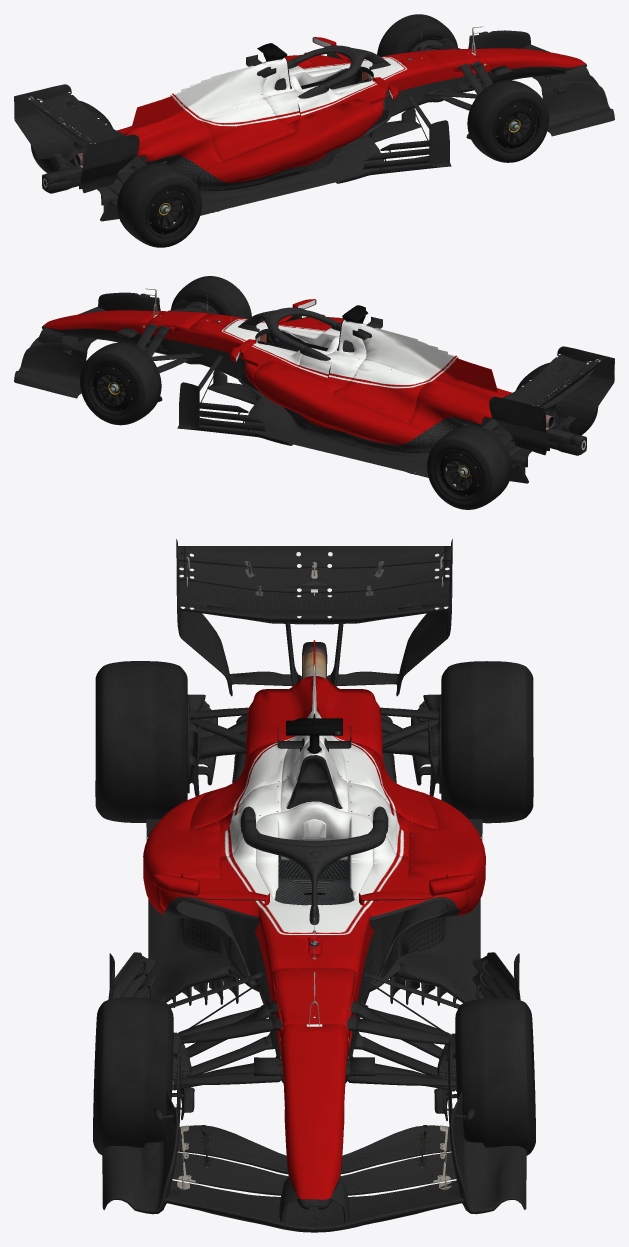
The model's file is ferrari.glb.
3 renders of one model, top to bottom at view 1: azimuth 30°, elevation 25°; view 2: azimuth 150°, elevation 25°; view 3: azimuth 270°, elevation 25°, orthographic. The views are drawn at different scales.
Parts seen in each view (by area): view 1: Object_26, Object_4, Object_10, Object_31, Object_8, Object_9, Object_28, Object_30, Object_5; view 2: Object_26, Object_4, Object_10, Object_31, Object_8, Object_9, Object_28, Object_30, Object_5; view 3: Object_4, Object_26, Object_10, Object_28, Object_31, Object_8, Object_5, Object_30.
Boxes of the visible parts, bbox=[...] form: Object_26: bbox=[28, 37, 585, 182]; Object_4: bbox=[14, 30, 614, 226]; Object_10: bbox=[30, 14, 548, 247]; Object_31: bbox=[130, 45, 482, 191]; Object_8: bbox=[50, 27, 548, 247]; Object_9: bbox=[146, 37, 541, 239]; Object_28: bbox=[25, 45, 597, 170]; Object_30: bbox=[136, 69, 372, 163]; Object_5: bbox=[26, 26, 550, 189]; Object_26: bbox=[43, 299, 600, 444]; Object_4: bbox=[14, 292, 614, 489]; Object_10: bbox=[80, 276, 598, 509]; Object_31: bbox=[145, 307, 498, 453]; Object_8: bbox=[80, 289, 578, 509]; Object_9: bbox=[87, 298, 482, 501]; Object_28: bbox=[31, 307, 603, 432]; Object_30: bbox=[256, 331, 492, 425]; Object_5: bbox=[78, 288, 602, 451]; Object_4: bbox=[102, 539, 526, 1232]; Object_26: bbox=[143, 552, 485, 1199]; Object_10: bbox=[98, 661, 530, 1155]; Object_28: bbox=[167, 545, 461, 1226]; Object_31: bbox=[164, 806, 460, 1058]; Object_8: bbox=[93, 667, 535, 1152]; Object_5: bbox=[157, 552, 471, 1189]; Object_30: bbox=[240, 766, 388, 938].
Size of the model in its own units: 5.41 by 1.2 by 1.92.
Materials: 16 (12 with a texture image).
